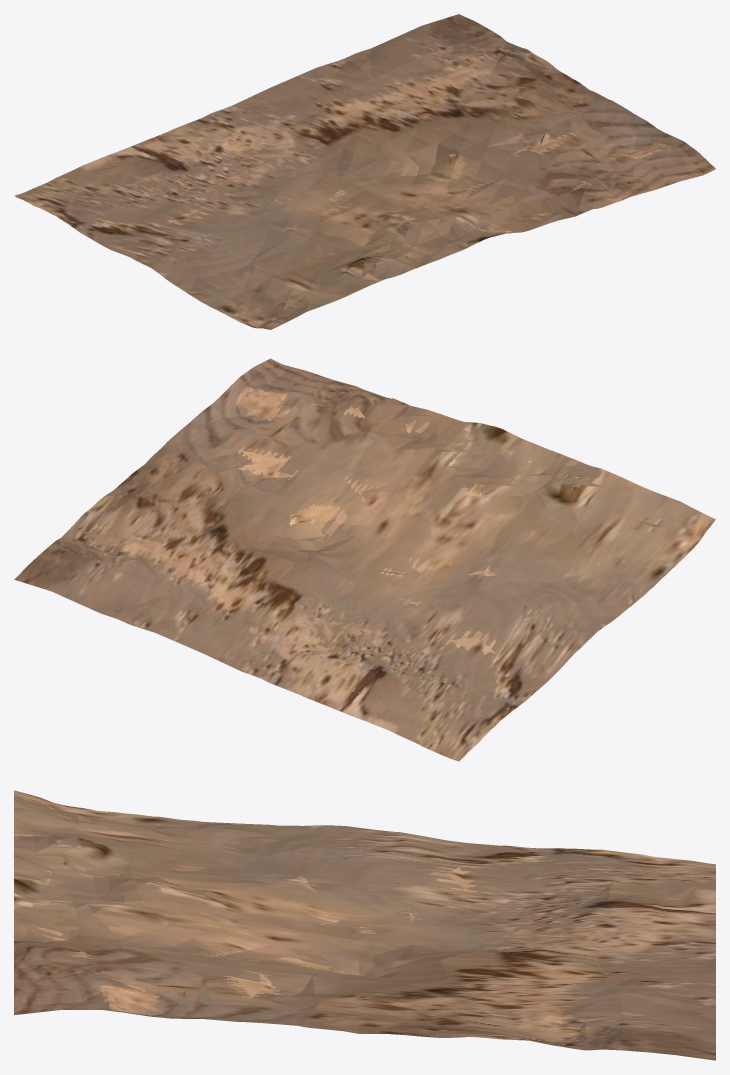
The picture shows the model from 3 angles, top to bottom: view 1: azimuth 30°, elevation 25°; view 2: azimuth 150°, elevation 25°; view 3: azimuth 270°, elevation 25°; orthographic projection. The views are drawn at different scales.
Size of the model in its own units: 1.04 by 0.2484 by 1.04.
Materials: 3 (3 with a texture image).
